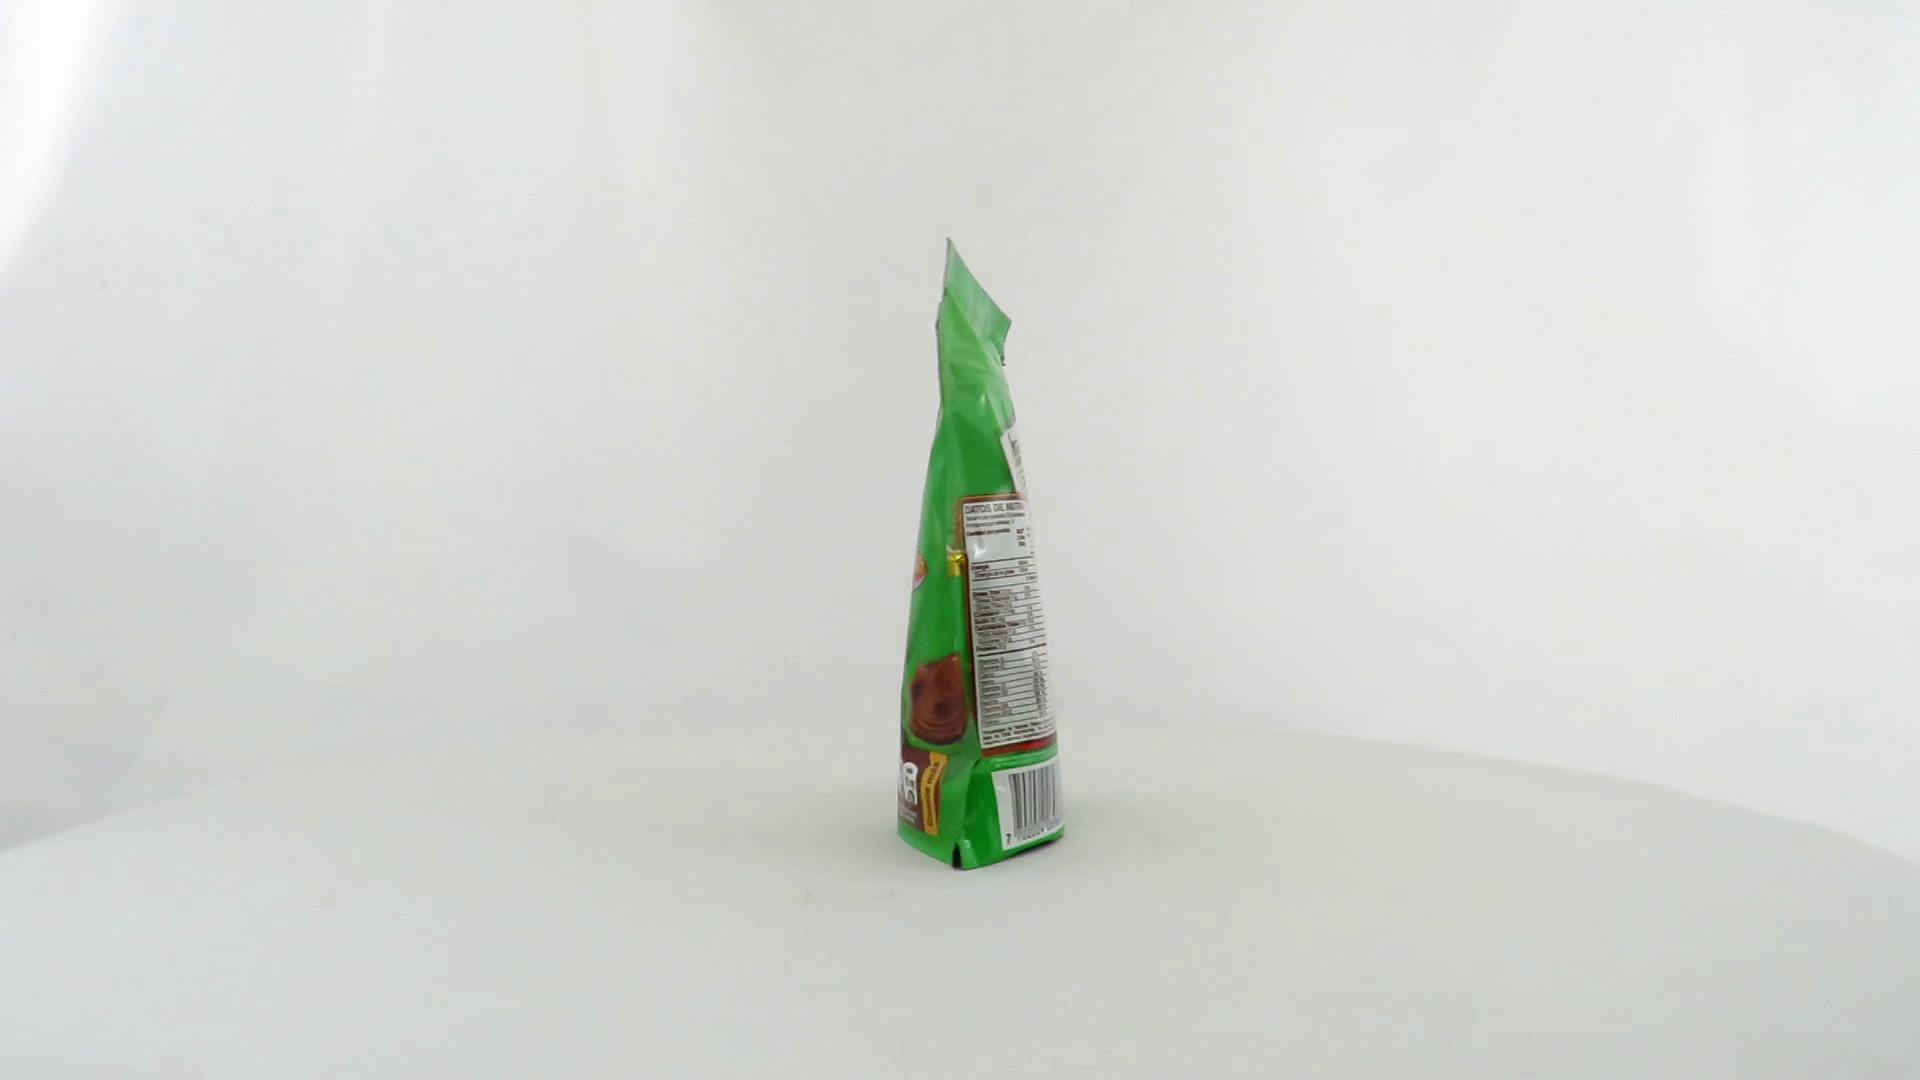COL0170203DYP10000: (891, 232, 1073, 877)
